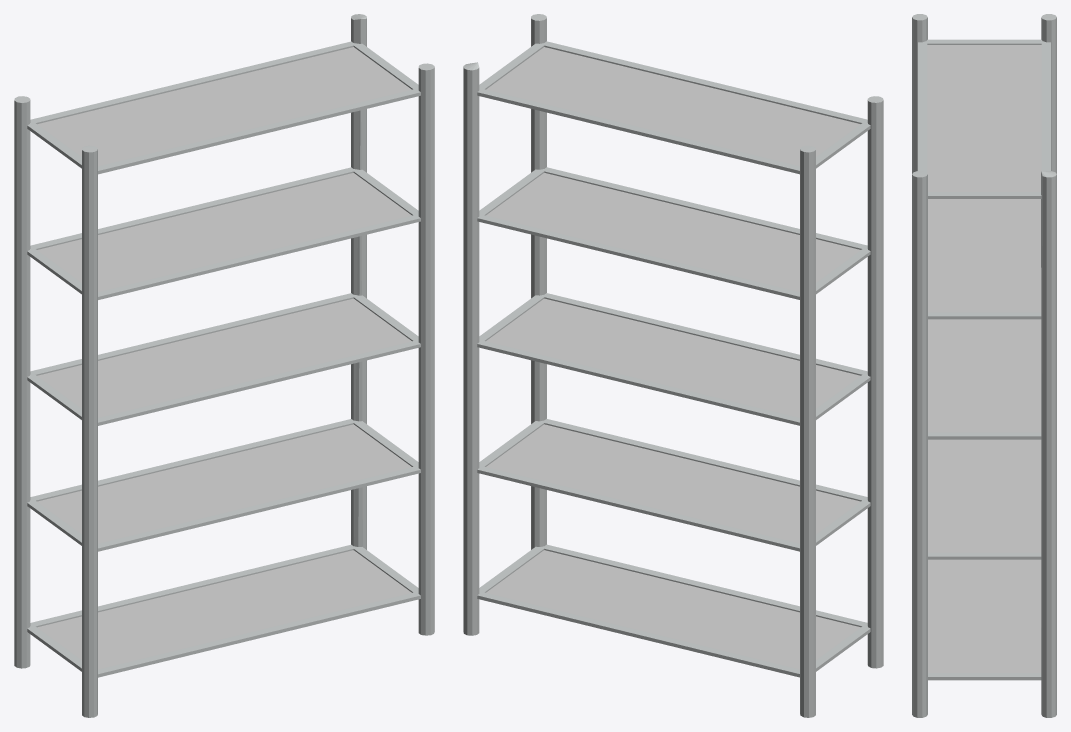
File: estante.obj
3 renders of one model, left to right at view 1: azimuth 30°, elevation 25°; view 2: azimuth 150°, elevation 25°; view 3: azimuth 270°, elevation 25°, orthographic. The views are drawn at different scales.
Parts seen in each view (by area): view 1: eb_metal_shelf_01; view 2: eb_metal_shelf_01; view 3: eb_metal_shelf_01.
Boxes of the visible parts, left/top/right/bottom form: eb_metal_shelf_01: left=14, top=14, right=434, bottom=717; eb_metal_shelf_01: left=463, top=14, right=883, bottom=717; eb_metal_shelf_01: left=912, top=14, right=1056, bottom=717.
Bounding box in the file's own units: 0.3014 × 0.4666 × 0.1129.
